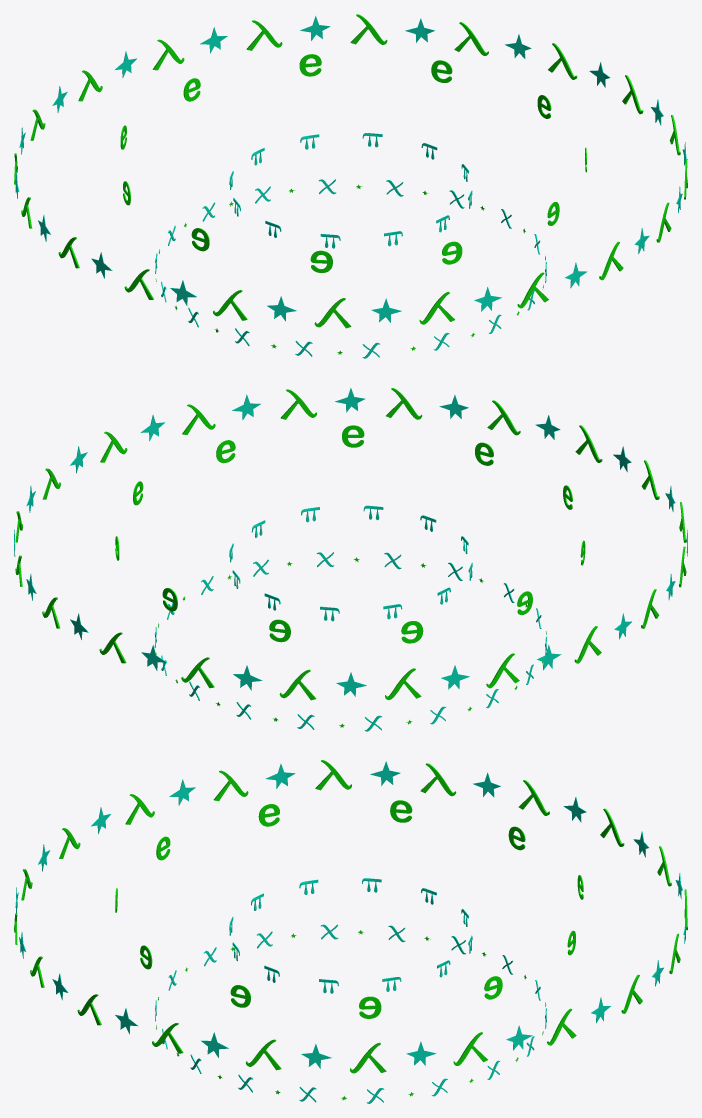
File: SM_Frist_Round.fbx
The picture shows the model from 3 angles, top to bottom: view 1: azimuth 30°, elevation 25°; view 2: azimuth 150°, elevation 25°; view 3: azimuth 270°, elevation 25°; orthographic projection.
Parts seen in each view (by area): view 1: round001, round003, round002, round004; view 2: round001, round003, round002, round004; view 3: round001, round003, round002, round004.
Boxes of the visible parts, x1=… form: round001: x1=14, y1=14, x2=687, y2=328; round003: x1=120, y1=54, x2=586, y2=272; round002: x1=155, y1=179, x2=546, y2=358; round004: x1=229, y1=133, x2=472, y2=248; round001: x1=14, y1=388, x2=687, y2=700; round003: x1=115, y1=425, x2=585, y2=643; round002: x1=154, y1=552, x2=547, y2=731; round004: x1=229, y1=505, x2=472, y2=621; round001: x1=14, y1=760, x2=687, y2=1073; round003: x1=115, y1=800, x2=583, y2=1018; round002: x1=155, y1=924, x2=546, y2=1103; round004: x1=229, y1=878, x2=472, y2=993.
Bounding box in the file's own units: 970 × 197 × 970.
